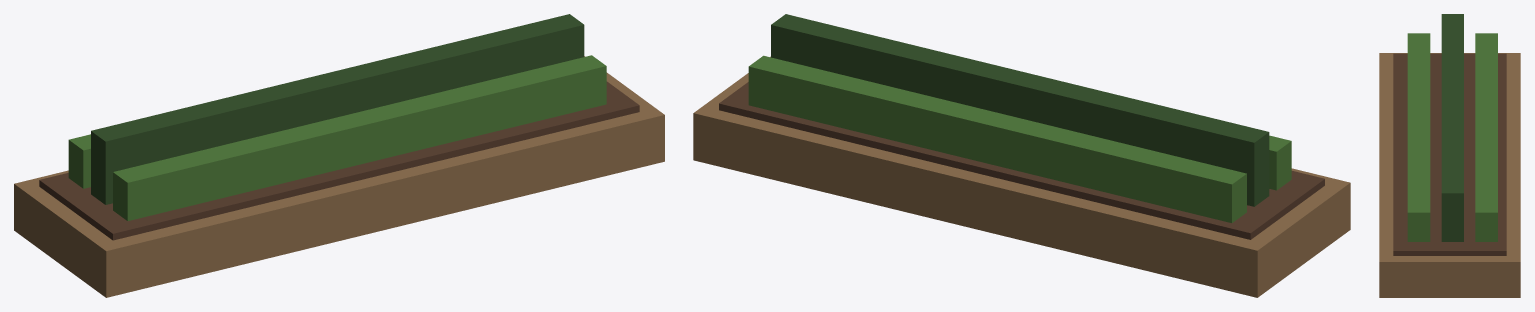
File: veg-bed.glb
3 renders of one model, left to right at view 1: azimuth 30°, elevation 25°; view 2: azimuth 150°, elevation 25°; view 3: azimuth 270°, elevation 25°, orthographic. The views are drawn at different scales.
Parts seen in each view (by area): view 1: veg-bed; view 2: veg-bed; view 3: veg-bed.
Part boxes in pixels (left/top/right/bottom): veg-bed: left=14, top=14, right=664, bottom=297; veg-bed: left=693, top=14, right=1350, bottom=297; veg-bed: left=1379, top=14, right=1520, bottom=297.
Size of the model in its own units: 3.5 by 0.7 by 1.
